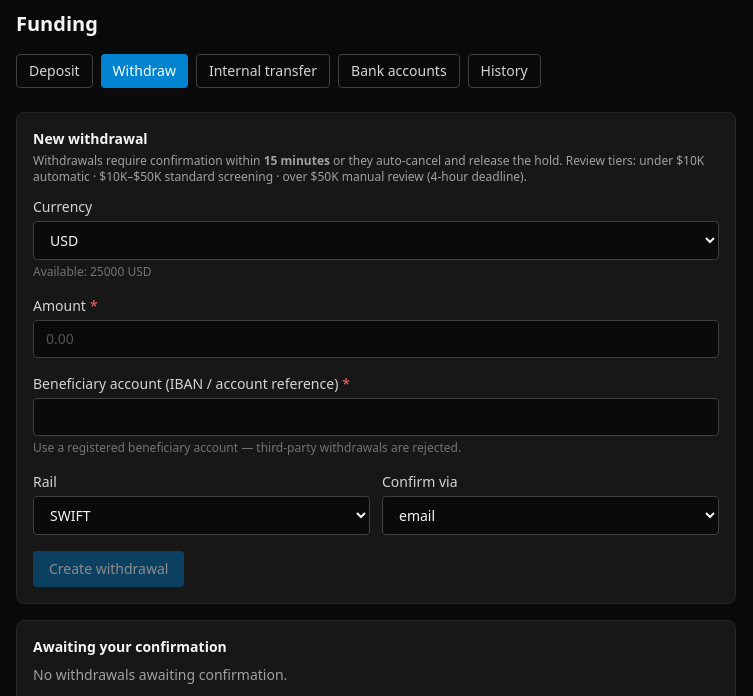
WithdrawalPanel › creates a withdrawal with Idempotency-Key and shows the one-time confirm token
Step 1. Type "500" into the field labelled "Amount*" → (376, 339), box [33,320,719,358]
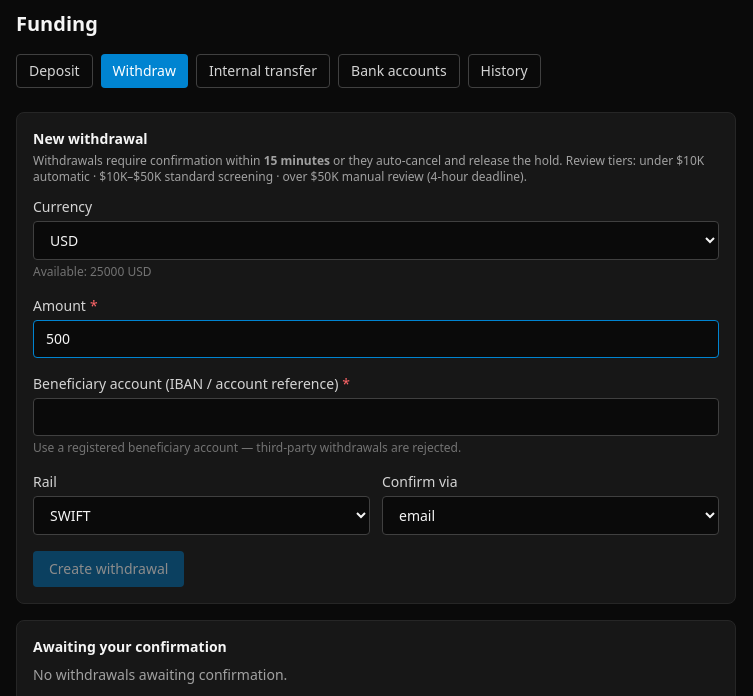
Step 2. Type "US-IBAN-1" into the field labelled "Beneficiary account (IBAN / account reference)*" → (376, 417), box [33,398,719,436]
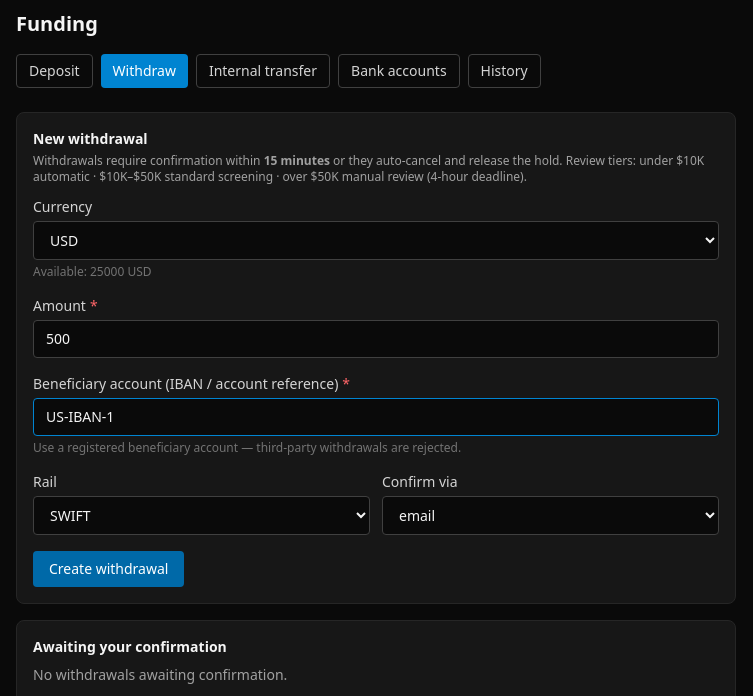
Step 3. Click the button "Create withdrawal" → (109, 569), box [33,551,184,587]
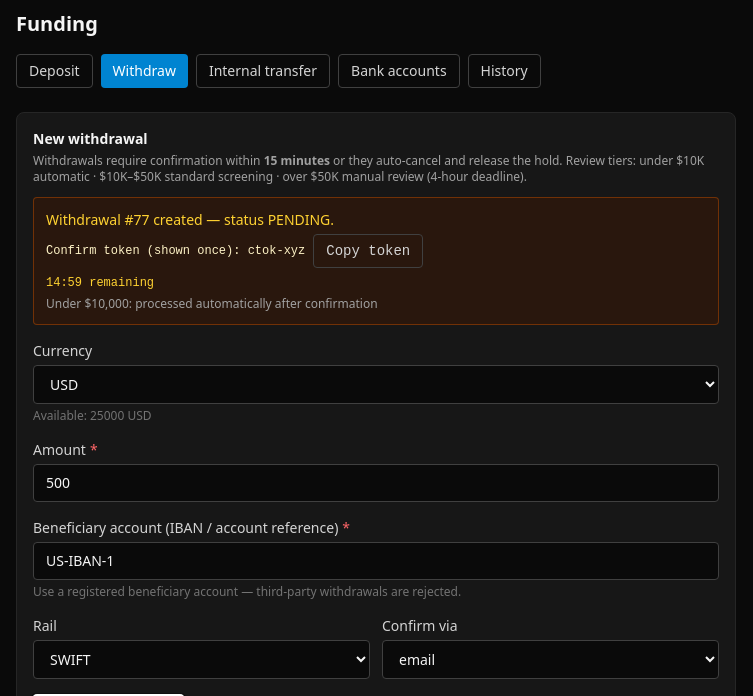
expect the text "Confirm token (shown once): ctok-xyz Copy token" is shown: met, box [46,234,423,268]
